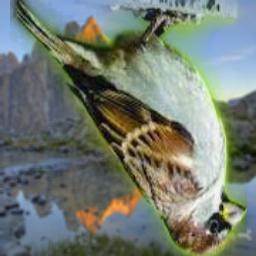Sparrow: (10, 0, 247, 256)
